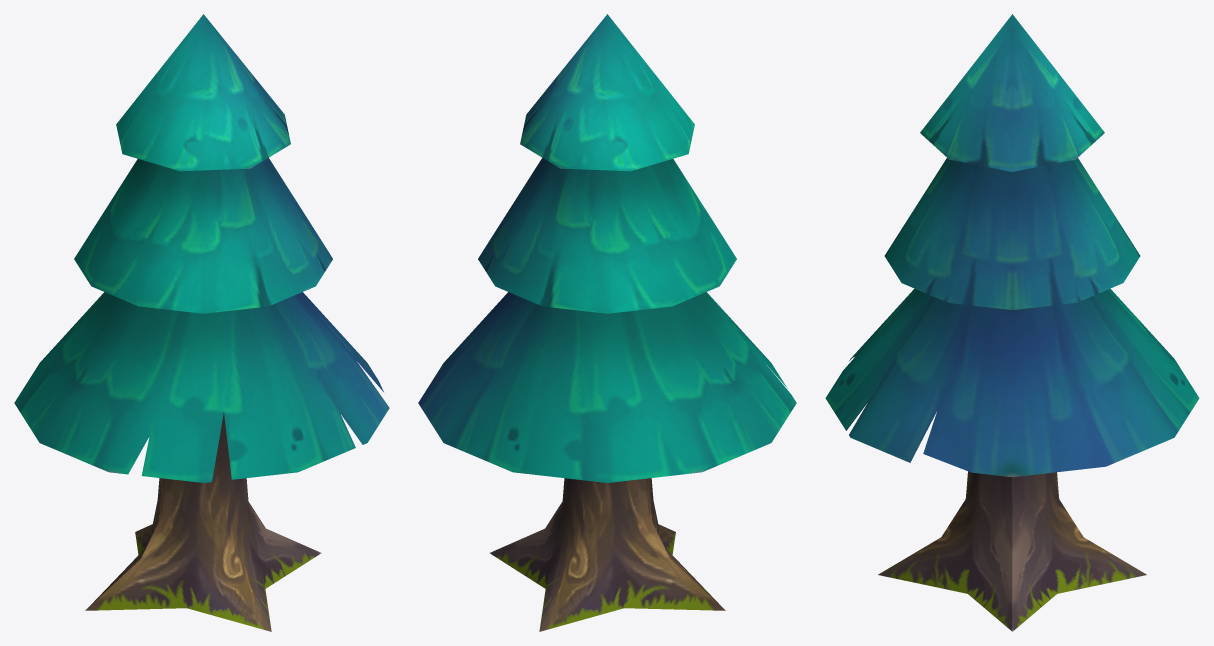
The model's file is scenes_construction_tree01a.FBX.
3 views of the same model, side by side, from view 1: azimuth 30°, elevation 25°; view 2: azimuth 150°, elevation 25°; view 3: azimuth 270°, elevation 25° (orthographic).
Parts seen in each view (by area): view 1: scenes_construction_tree01a; view 2: scenes_construction_tree01a; view 3: scenes_construction_tree01a.
Part boxes in pixels (x1=…): scenes_construction_tree01a: x1=14, y1=14, x2=389, y2=631; scenes_construction_tree01a: x1=418, y1=14, x2=796, y2=631; scenes_construction_tree01a: x1=825, y1=14, x2=1199, y2=631.
Size of the model in its own units: 857 by 1418 by 857.
